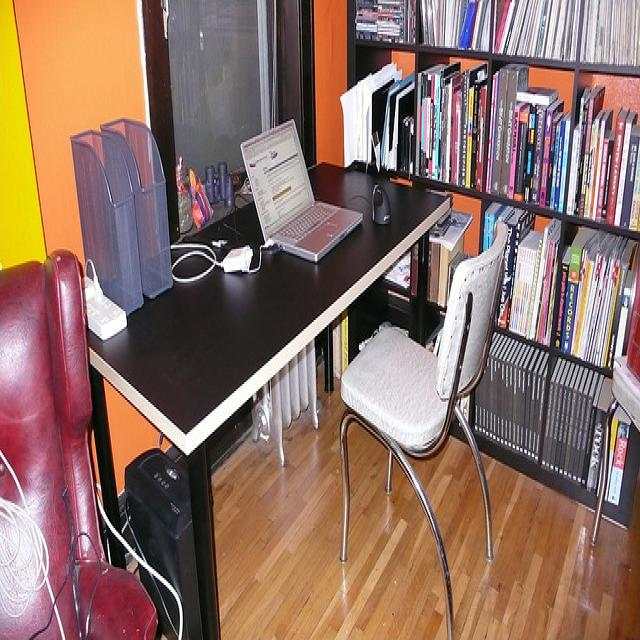chair: (338, 218, 509, 639), (0, 251, 159, 633), (586, 279, 640, 552)
dining table: (88, 160, 454, 553)
